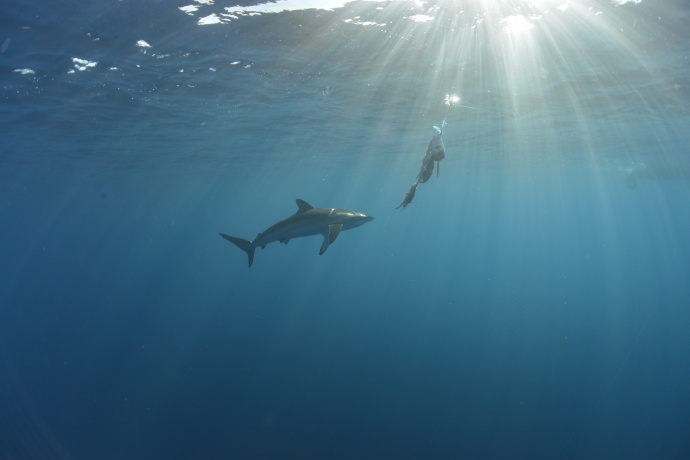Sedoso: (189, 187, 383, 272)
